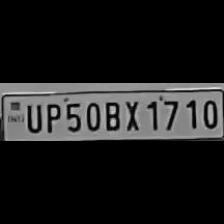0: (82, 100, 102, 132), (200, 97, 218, 129)
1: (181, 96, 199, 130), (141, 97, 159, 130)
5: (62, 99, 82, 133)
7: (159, 97, 179, 131)
B: (102, 98, 120, 132)
P: (43, 100, 61, 134)
U: (22, 101, 42, 133)
X: (122, 98, 142, 132)
